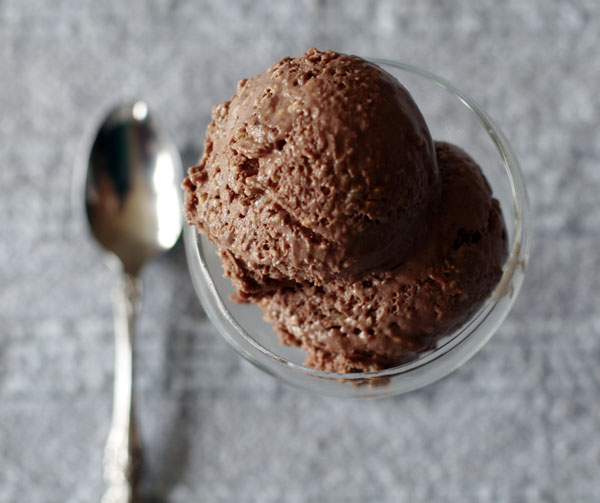ice-cream: (190, 49, 435, 288), (282, 145, 508, 366)
